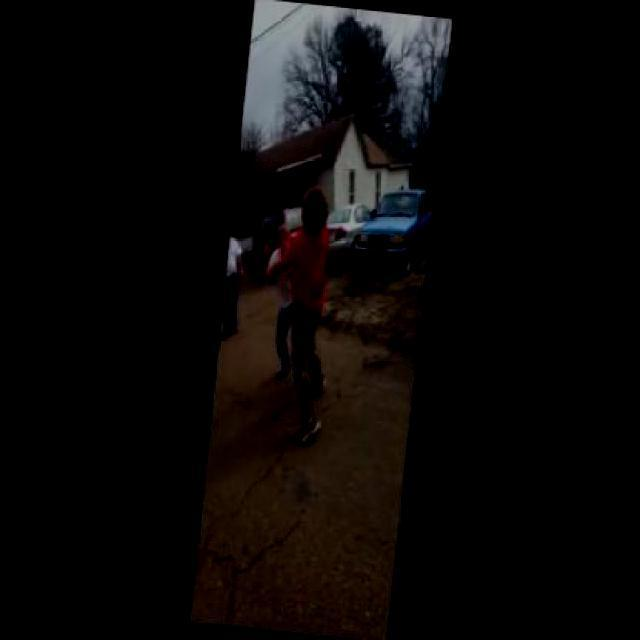fight: (262, 184, 336, 440)
